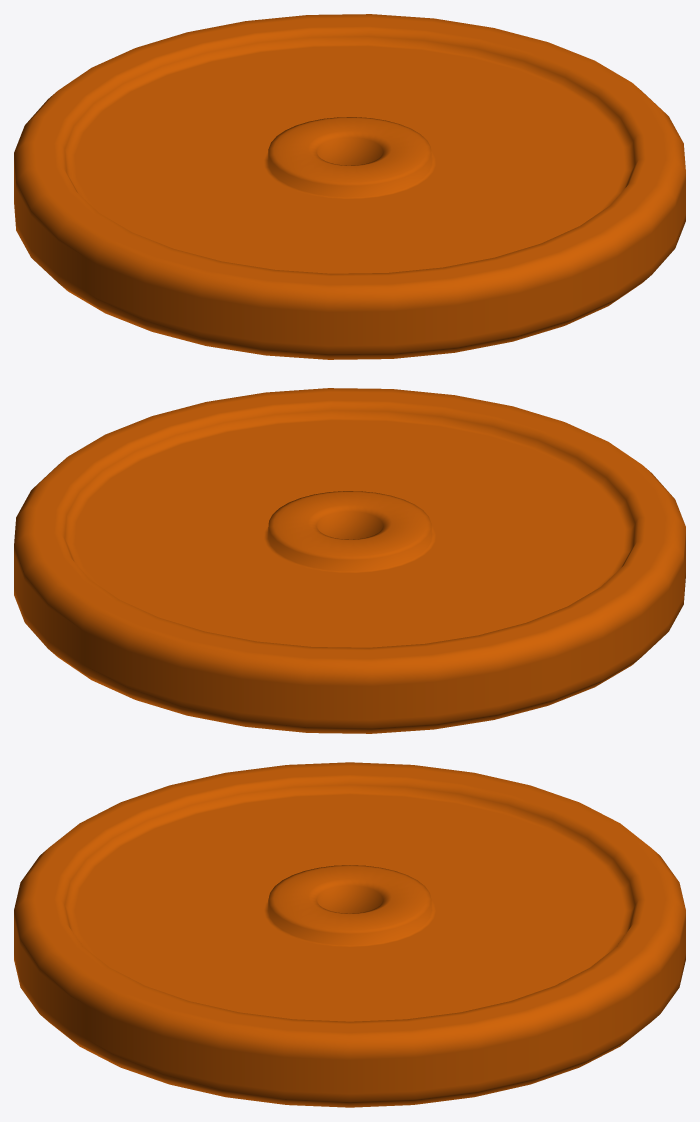
Rendered from Plate1.fbx.
3 views of the same model, one above another, from view 1: azimuth 30°, elevation 25°; view 2: azimuth 150°, elevation 25°; view 3: azimuth 270°, elevation 25° (orthographic).
Parts seen in each view (by area): view 1: Cylinder.014; view 2: Cylinder.014; view 3: Cylinder.014.
Part boxes in pixels (x1,y1,x2,y2): Cylinder.014: (14, 14, 685, 359); Cylinder.014: (14, 388, 685, 733); Cylinder.014: (14, 762, 685, 1107).
Size of the model in its own units: 45.97 by 5.8 by 45.97.
